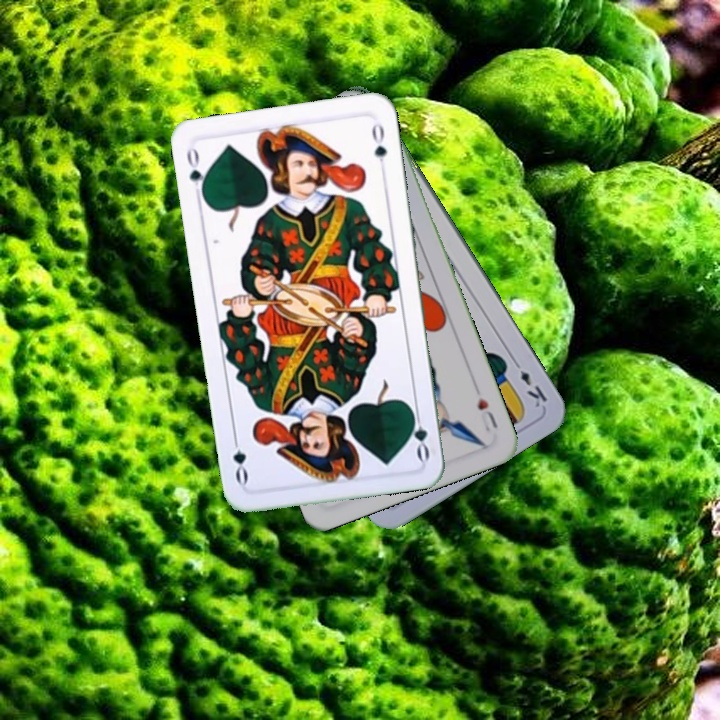EK: (509, 355, 550, 411)
GO: (182, 143, 209, 203), (406, 403, 432, 463)
HU: (473, 393, 500, 435)
